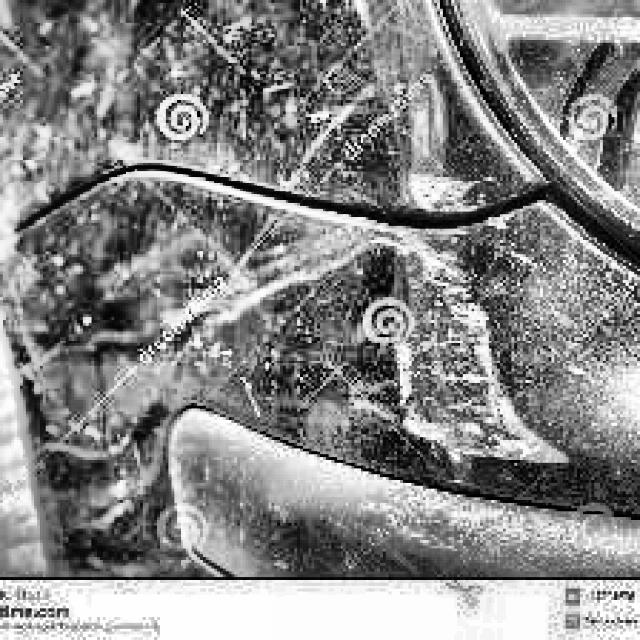bumper_scratch: (371, 232, 570, 468), (401, 165, 498, 225)
